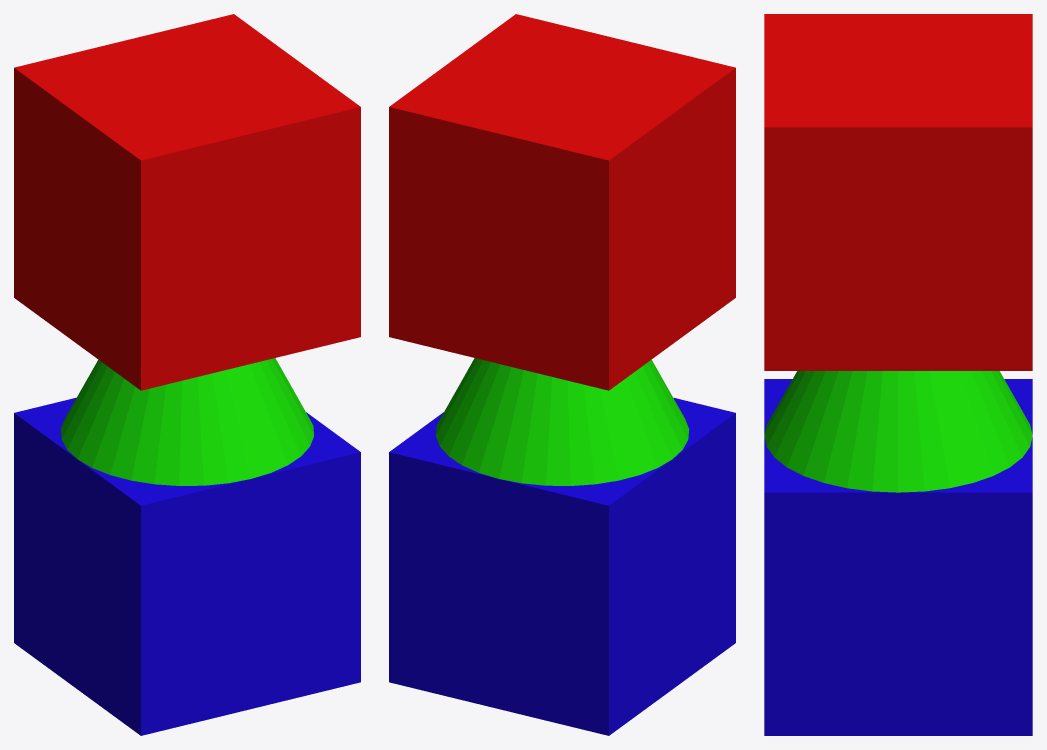
The model's file is AssemblyDae.dae.
3 renders of one model, left to right at view 1: azimuth 30°, elevation 25°; view 2: azimuth 150°, elevation 25°; view 3: azimuth 270°, elevation 25°, orthographic. The views are drawn at different scales.
Visible parts, largest first — view 1: Cube.001, Cube, Cone; view 2: Cube.001, Cube, Cone; view 3: Cube.001, Cube, Cone.
Part boxes in pixels (left/top/right/bottom): Cube.001: left=14, top=14, right=360, bottom=390; Cube: left=14, top=397, right=360, bottom=735; Cone: left=60, top=358, right=313, bottom=485; Cube.001: left=389, top=14, right=735, bottom=390; Cube: left=389, top=397, right=735, bottom=735; Cone: left=436, top=358, right=689, bottom=485; Cube.001: left=764, top=14, right=1032, bottom=370; Cube: left=764, top=379, right=1032, bottom=735; Cone: left=764, top=371, right=1032, bottom=492.
Size of the model in its own units: 1 by 1 by 2.5.
